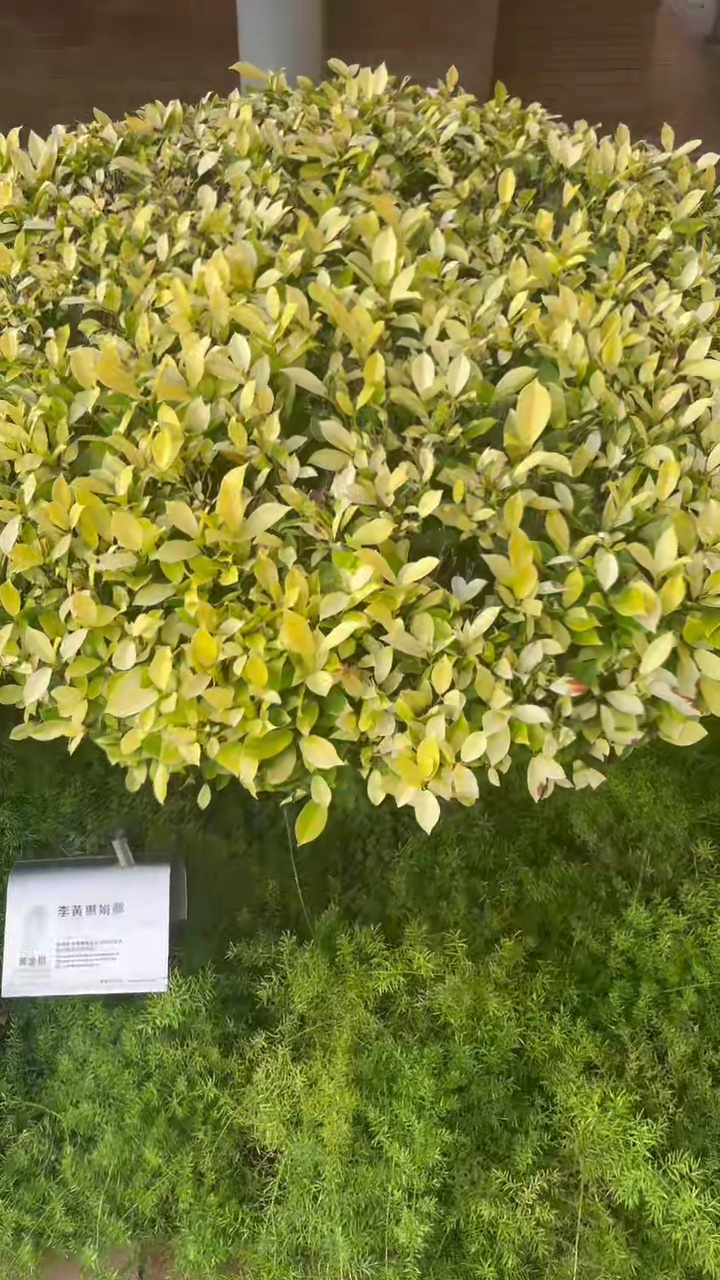Golden-leaves Fig: (0, 62, 719, 841)
